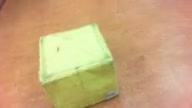cube: (38, 22, 119, 108)
